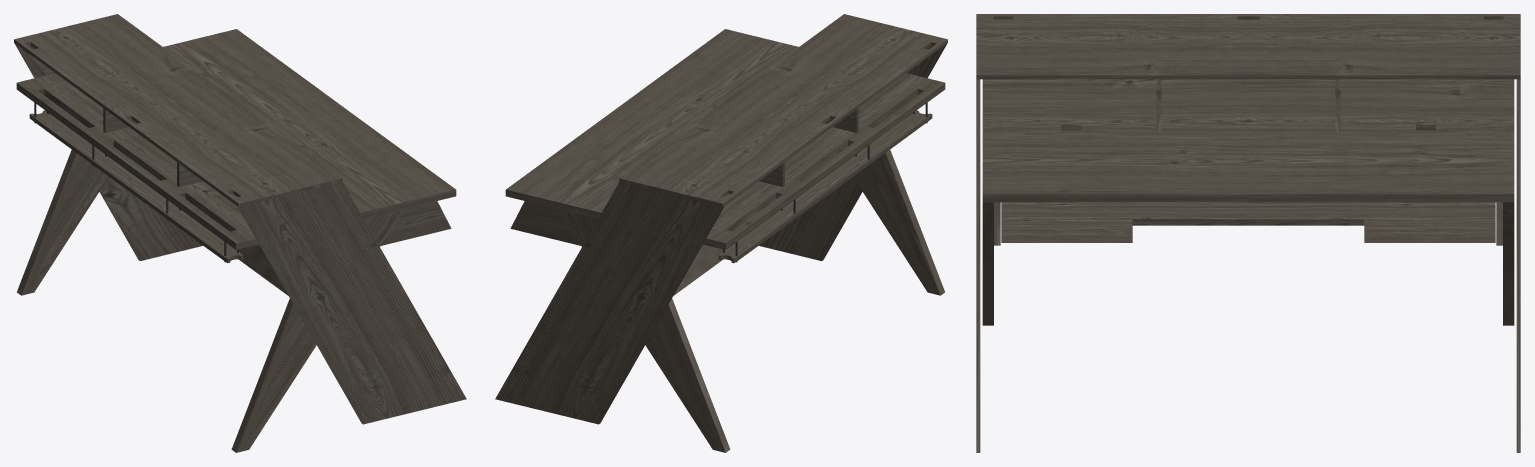
File: output_platform_desk.glb
3 renders of one model, left to right at view 1: azimuth 30°, elevation 25°; view 2: azimuth 150°, elevation 25°; view 3: azimuth 270°, elevation 25°, orthographic. The views are drawn at different scales.
Parts seen in each view (by area): view 1: Cube.001; view 2: Cube.001; view 3: Cube.001.
Boxes of the visible parts, x1=… form: Cube.001: x1=14, y1=14, x2=466, y2=452; Cube.001: x1=495, y1=14, x2=947, y2=452; Cube.001: x1=976, y1=14, x2=1520, y2=452.
Size of the model in its own units: 35.19 by 37 by 60.
2 materials, 1 textured.
